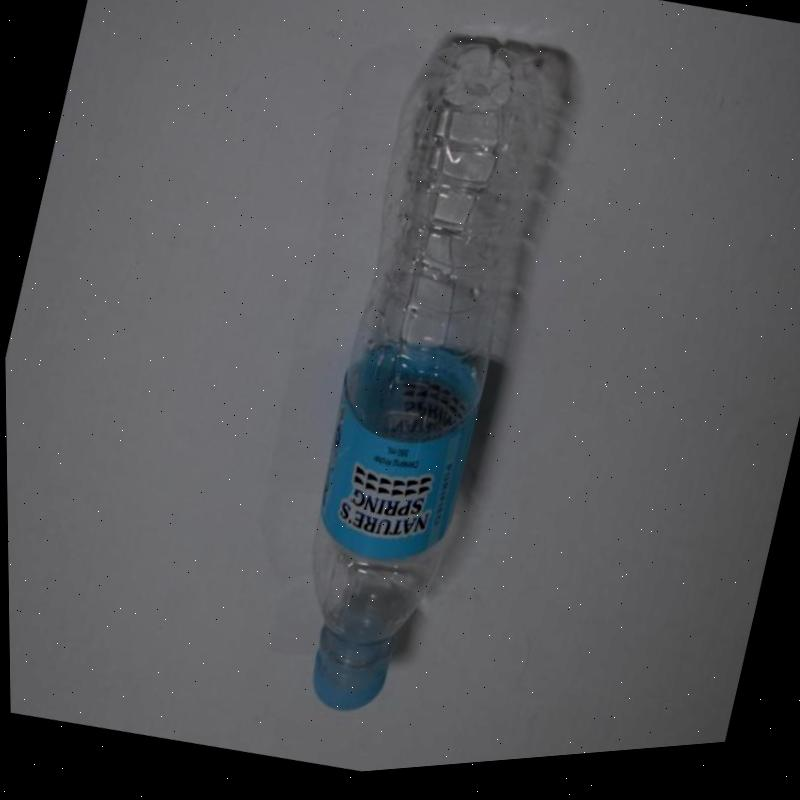botella: (250, 27, 569, 736)
